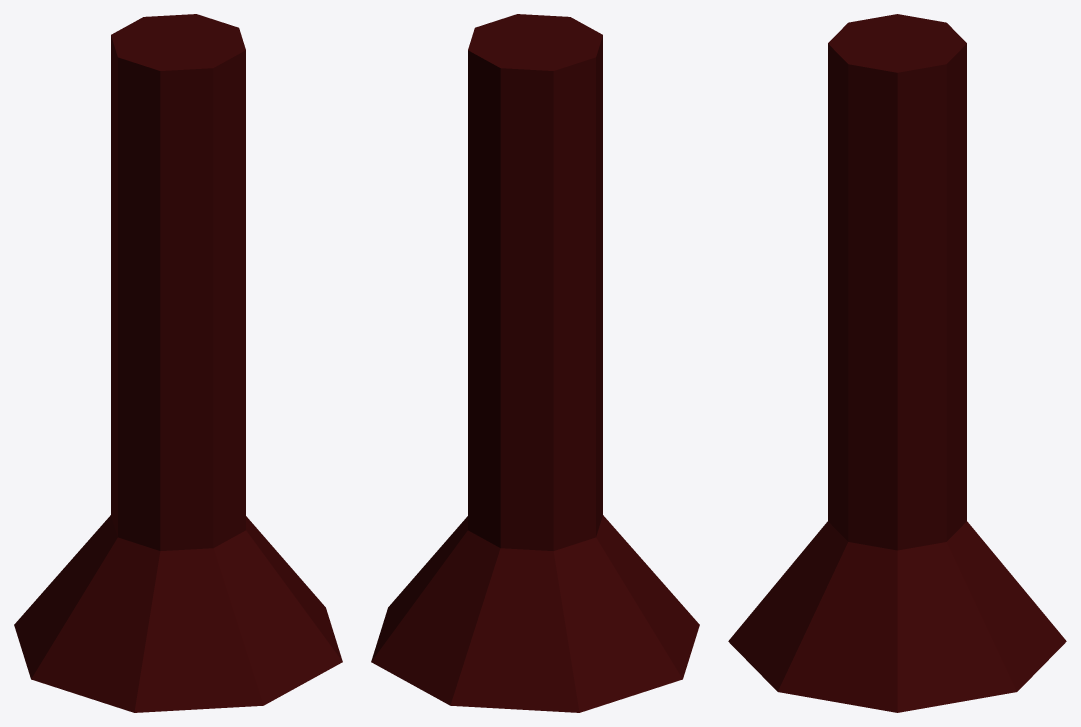
File: Food_Chute.fbx
The picture shows the model from 3 angles, left to right: view 1: azimuth 30°, elevation 25°; view 2: azimuth 150°, elevation 25°; view 3: azimuth 270°, elevation 25°; orthographic projection.
Visible parts, largest first — view 1: pCylinder1; view 2: pCylinder1; view 3: pCylinder1.
Boxes of the visible parts, x1,y1,x2,y2 form: pCylinder1: (14,14,342,712); pCylinder1: (371,14,699,712); pCylinder1: (728,14,1066,712).
Size of the model in its own units: 193 by 376 by 193.
